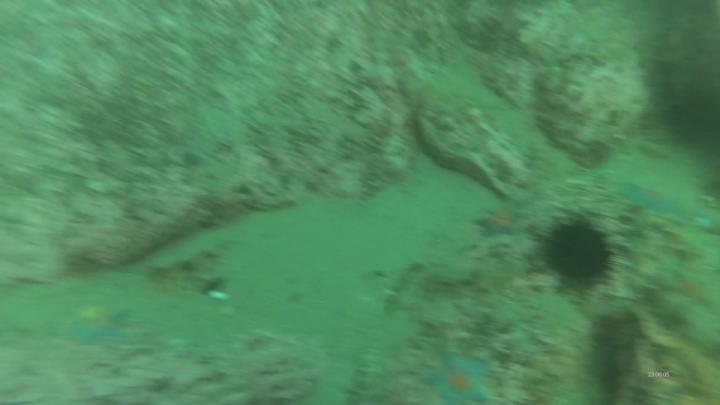echinus: (544, 214, 614, 294)
starfish: (425, 346, 497, 405), (68, 299, 132, 349), (619, 178, 689, 221), (473, 200, 529, 243)
